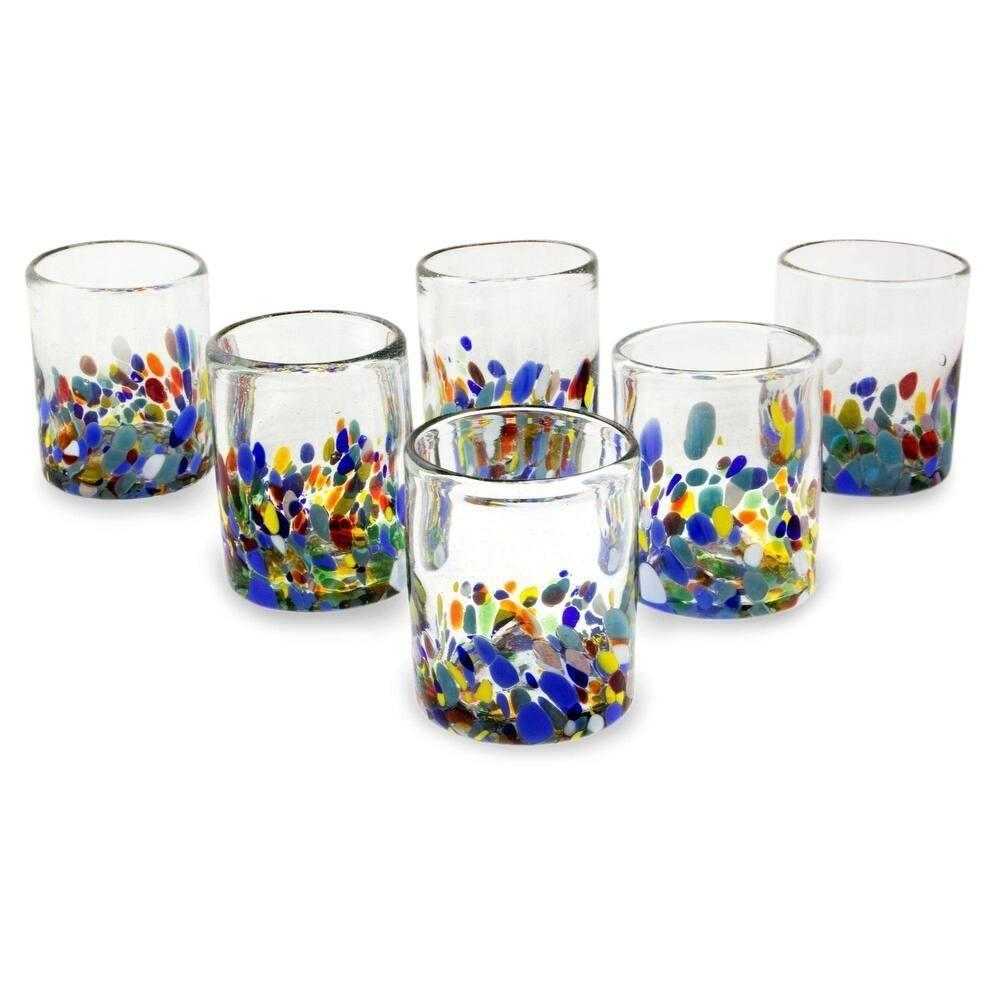glass-normal: (401, 402, 644, 750), (610, 316, 825, 620), (205, 305, 413, 614), (770, 234, 973, 497), (24, 234, 215, 502), (414, 233, 605, 415)
